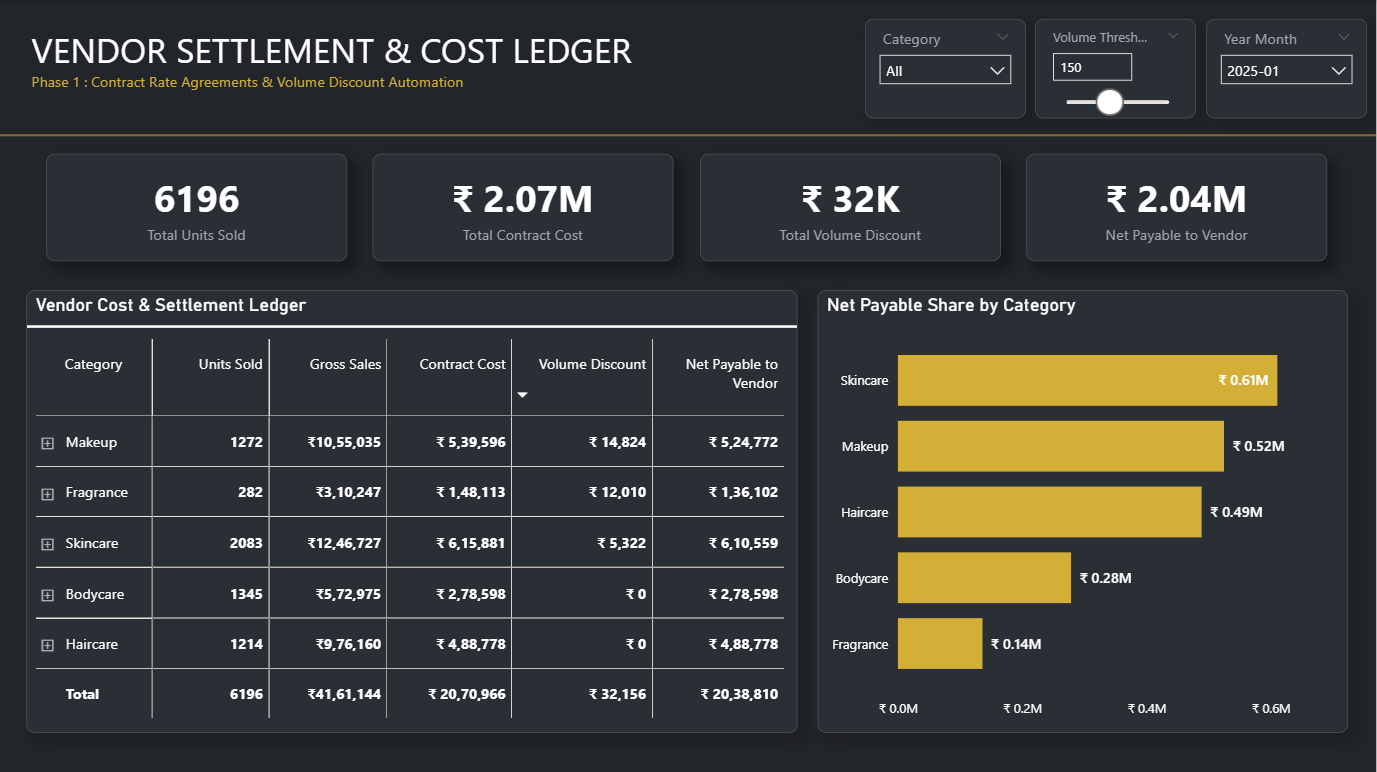

What the dashboard file says about the page in this screenshot:
{"tool":"powerbi","page":{"name":"VENDOR SETTLEMENT & COST LEDGER","canvas":[1280,720],"ordinal":1},"visuals":[{"type":"textbox","box":[24.4,19.8,577.9,90.7],"z":0},{"type":"slicer","fields":{"Values":["Dim_Category_Bridge.Category"]},"box":[804.4,16.9,149.8,93],"z":1000},{"type":"slicer","fields":{"Values":["Volume Threshold.Volume Threshold"]},"box":[962.6,16.9,149.8,93],"z":2000},{"type":"shape","box":[0,119.6,1280.2,12.1],"z":3000},{"type":"card","fields":{"Values":["Calculations_Ledger.Total Units Sold"]},"box":[43,143,280,100],"z":4000},{"type":"card","fields":{"Values":["Calculations_Ledger.Total Volume Discount"]},"box":[651,143,280,100],"z":5000},{"type":"card","fields":{"Values":["Calculations_Ledger.Net Payable to Vendor"]},"box":[955,143,280,100],"z":6000},{"type":"card","fields":{"Values":["Calculations_Ledger.Total Contract Cost"]},"box":[347,143,280,100],"z":7000},{"type":"pivotTable","title":"Vendor Cost & Settlement Ledger","fields":{"Rows":["Dim_Category_Bridge.Category","Dim_Product.SKU_Code"],"Values":["Calculations_Ledger.Total Units Sold","Calculations_Ledger.Total Gross Sales","Calculations_Ledger.Total Contract Cost","Calculations_Ledger.Total Volume Discount","Calculations_Ledger.Net Payable to Vendor"]},"box":[24.2,269.3,717.4,411.9],"z":8000},{"type":"slicer","fields":{"Values":["Dim_Date.Year Month"]},"box":[1122,16.9,149.8,93],"z":9000},{"type":"clusteredBarChart","title":"Net Payable Share by Category","fields":{"Category":["Dim_Product.Category"],"Y":["Calculations_Ledger.Net Payable to Vendor"]},"box":[760.9,269.3,494,411.9],"z":10000},{"type":"group","id":"g1","title":"Group 1","box":[0,0,1280.2,592.2],"z":10005}]}

Visuals, with their boxes in screenshot pixels (x1, y1, x2, y2), scaled from the page's 1280x720 canvas onto the 1377x772 screenshot:
textbox: l=26, t=21, r=648, b=118
slicer - Dim_Category_Bridge.Category: l=865, t=18, r=1027, b=118
slicer - Volume Threshold.Volume Threshold: l=1036, t=18, r=1197, b=118
shape: l=0, t=128, r=1376, b=141
card - Calculations_Ledger.Total Units Sold: l=46, t=153, r=347, b=261
card - Calculations_Ledger.Total Volume Discount: l=700, t=153, r=1002, b=261
card - Calculations_Ledger.Net Payable to Vendor: l=1027, t=153, r=1329, b=261
card - Calculations_Ledger.Total Contract Cost: l=373, t=153, r=675, b=261
"Vendor Cost & Settlement Ledger" pivotTable: l=26, t=289, r=798, b=730
slicer - Dim_Date.Year Month: l=1207, t=18, r=1368, b=118
"Net Payable Share by Category" clusteredBarChart: l=819, t=289, r=1350, b=730
"Group 1" group: l=0, t=0, r=1376, b=635
